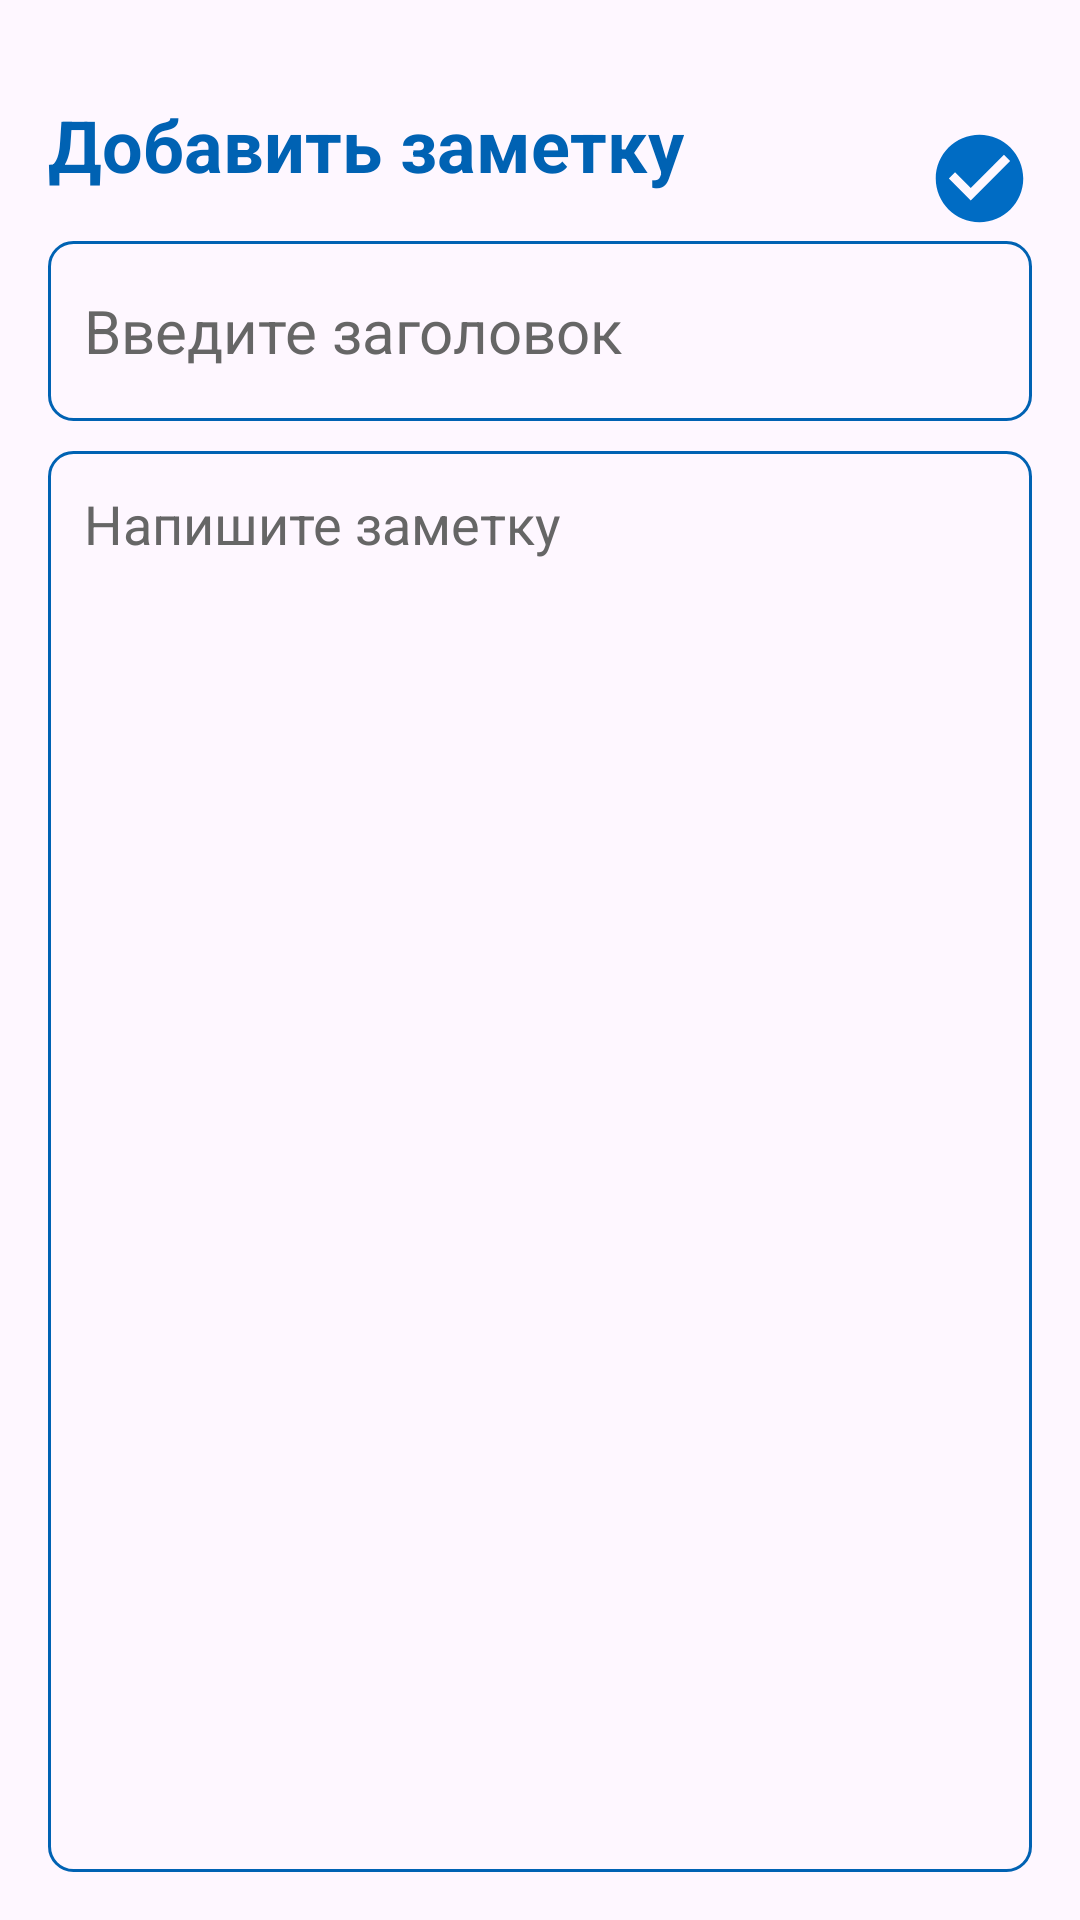

Icons on this 1080*1920 Android screen, each with its box as (x1, y1, x2, y2):
check circle: (935, 134, 1024, 223)
